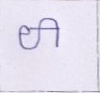i_matra: (41, 18, 63, 48)
